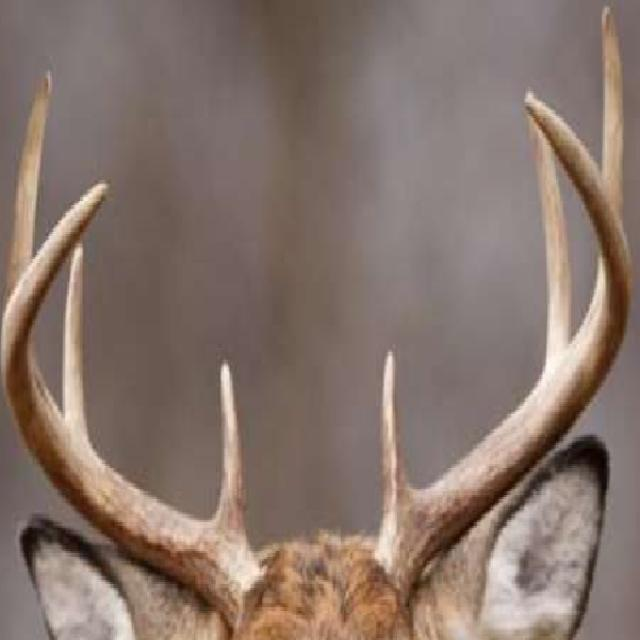L-F: (372, 98, 632, 606)
L-G1: (378, 347, 411, 519)
R-F: (0, 178, 271, 636)
R-G1: (210, 356, 249, 541)
R-G2: (62, 241, 90, 442)
